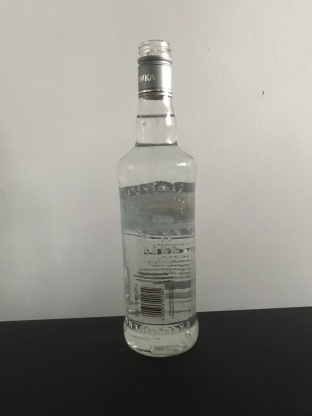nakretka: (135, 38, 173, 100)
